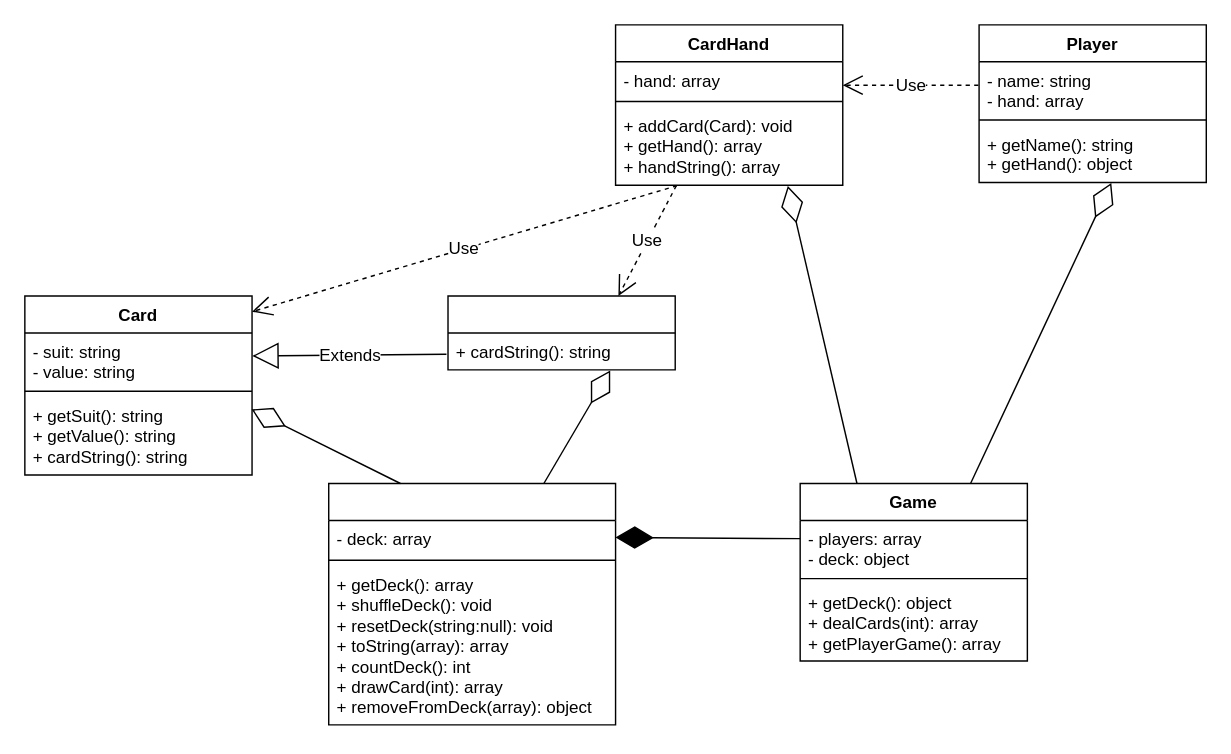
Image size: 1231x754. Some labels were removed from this diagram. The box of each missing label's shape, as (x1, y1, x2, y2) in pixels:
CardDeck: (327, 482, 616, 725)
CardGraphic: (447, 295, 675, 370)
